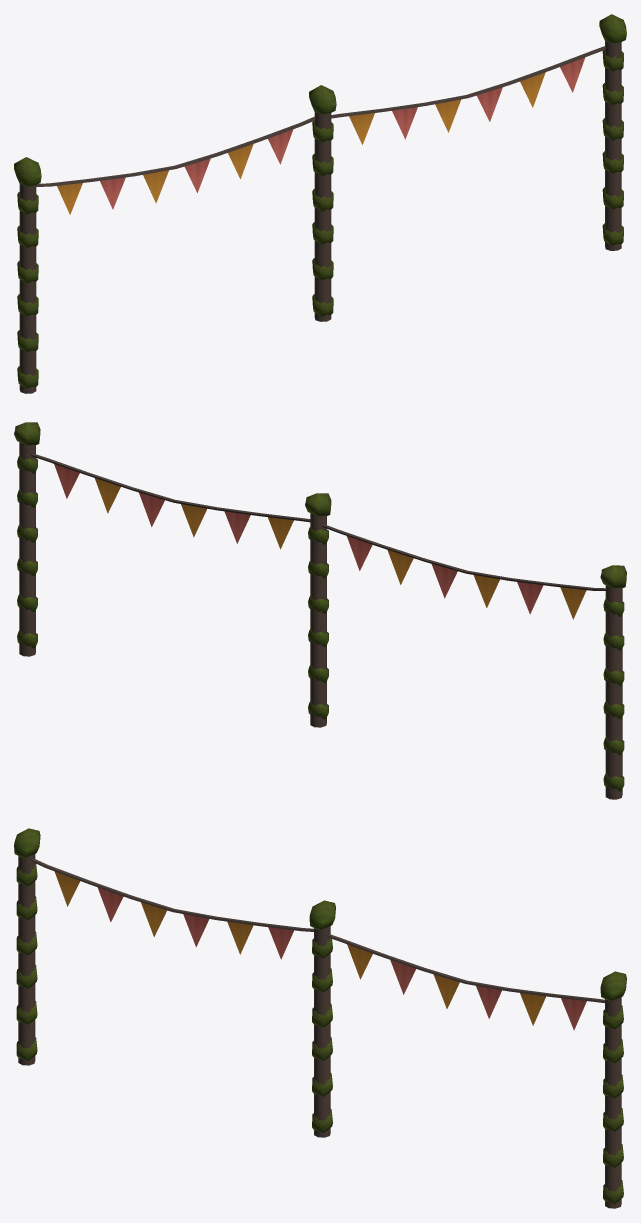
The model's file is fair-flags-line.glb.
The picture shows the model from 3 angles, top to bottom: view 1: azimuth 30°, elevation 25°; view 2: azimuth 150°, elevation 25°; view 3: azimuth 330°, elevation 25°; orthographic projection.
Parts seen in each view (by area): view 1: Fair_Flags_Line; view 2: Fair_Flags_Line; view 3: Fair_Flags_Line.
Boxes of the visible parts, left/top/right/bottom form: Fair_Flags_Line: left=14, top=14, right=626, bottom=393; Fair_Flags_Line: left=14, top=422, right=626, bottom=799; Fair_Flags_Line: left=14, top=828, right=626, bottom=1208.
Size of what is drawn, in the model's own units: 19.63 by 7.13 by 0.791.
Materials: 3 (3 with a texture image).
